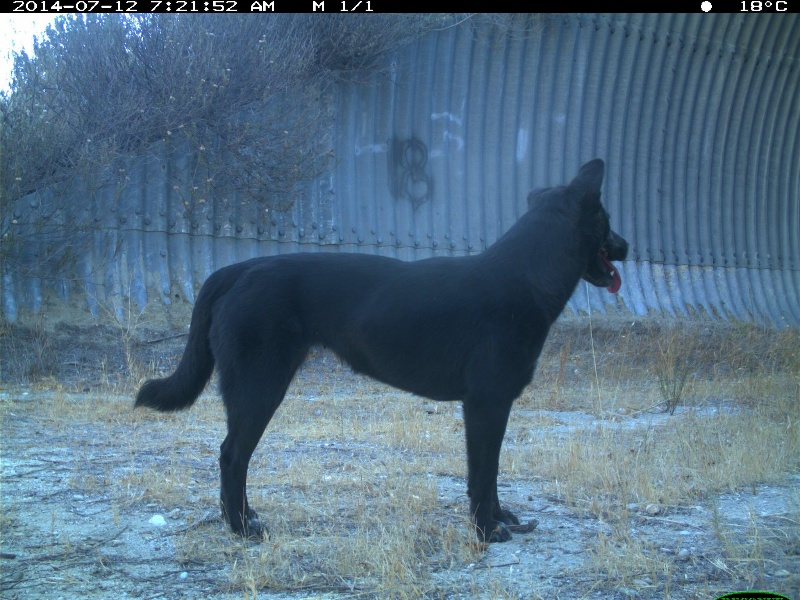dog: (134, 154, 628, 559)
